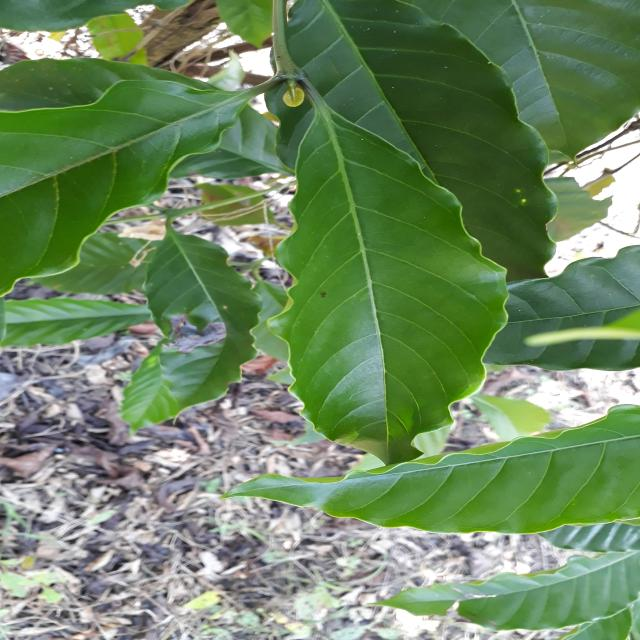Sanas: (270, 0, 510, 468)
